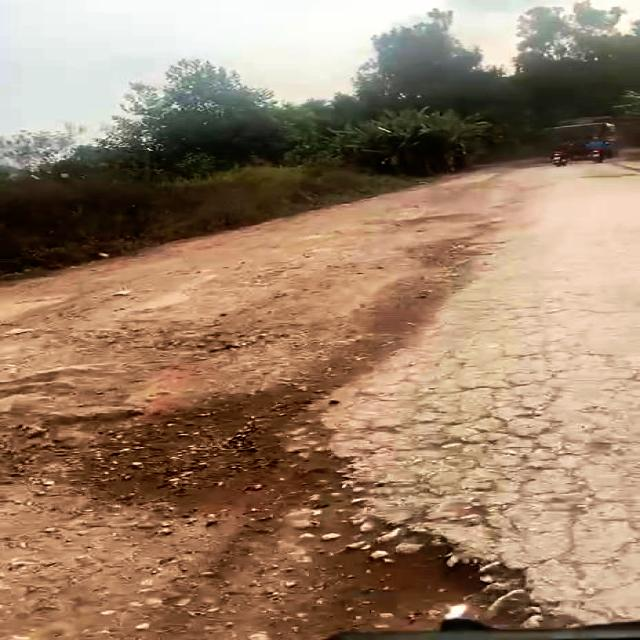pothole: (88, 423, 559, 640)
